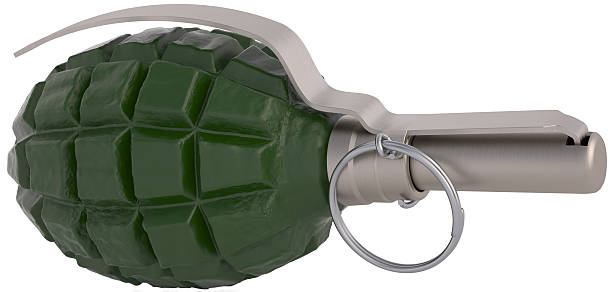e1: (7, 4, 609, 288)
